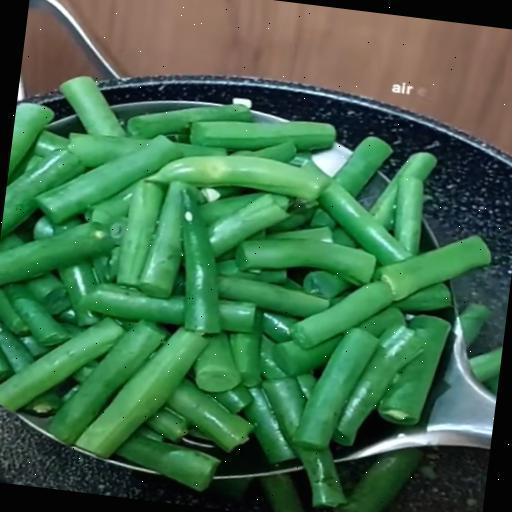buncis_rebus: (0, 37, 512, 512)
